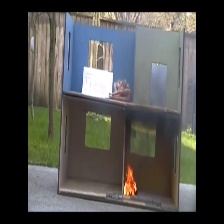fire: (121, 162, 141, 197)
